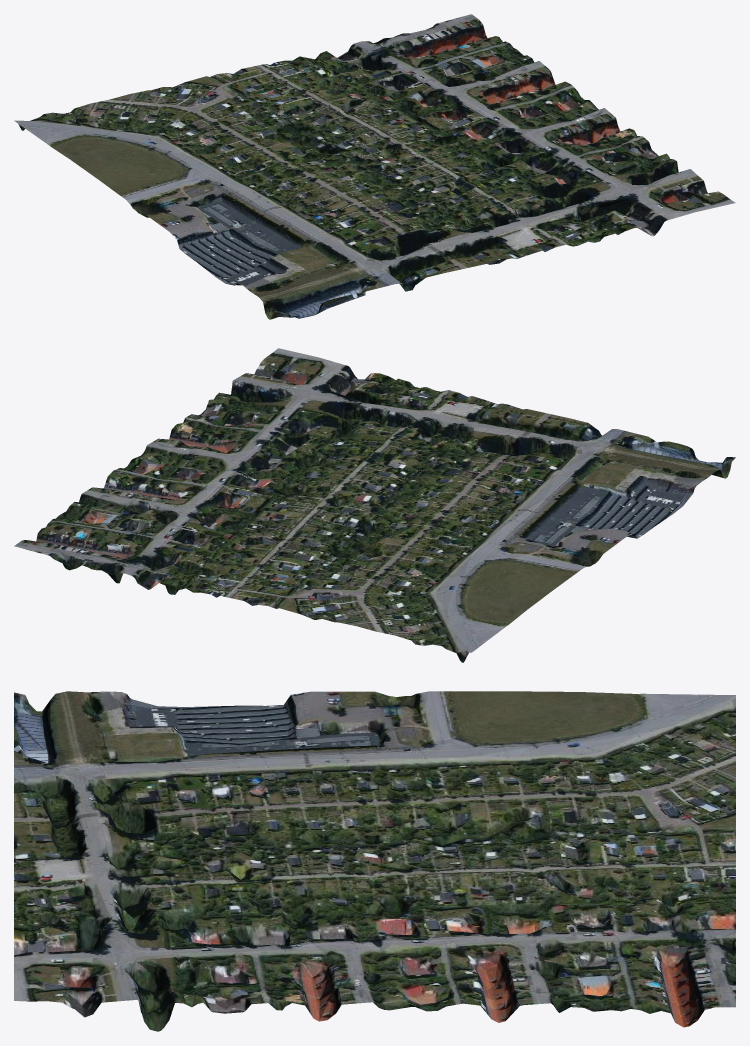
Rendered from map_13_2047_3445.dae.
3 renders of one model, top to bottom at view 1: azimuth 30°, elevation 25°; view 2: azimuth 150°, elevation 25°; view 3: azimuth 270°, elevation 25°, orthographic. The views are drawn at different scales.
Visible parts, largest first — view 1: Ter0; view 2: Ter0; view 3: Ter0.
Boxes of the visible parts, x1,y1,x2,y2 form: Ter0: (14, 14, 735, 319); Ter0: (14, 348, 735, 662); Ter0: (14, 691, 735, 1031).
Size of the model in its own units: 256 by 256 by 16.42.
2 materials, 2 textured.
